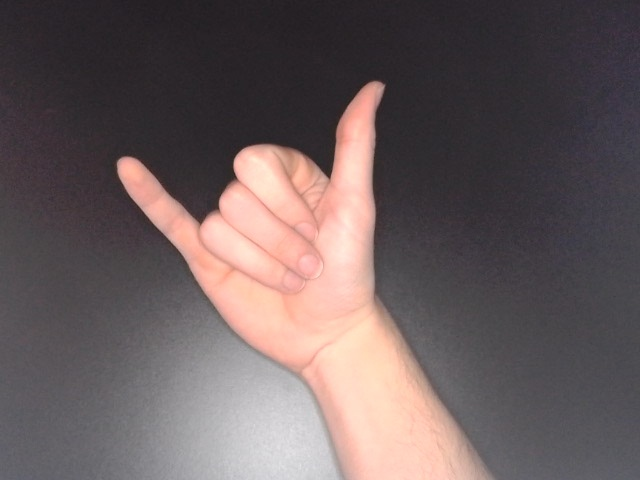y: (112, 75, 396, 382)
